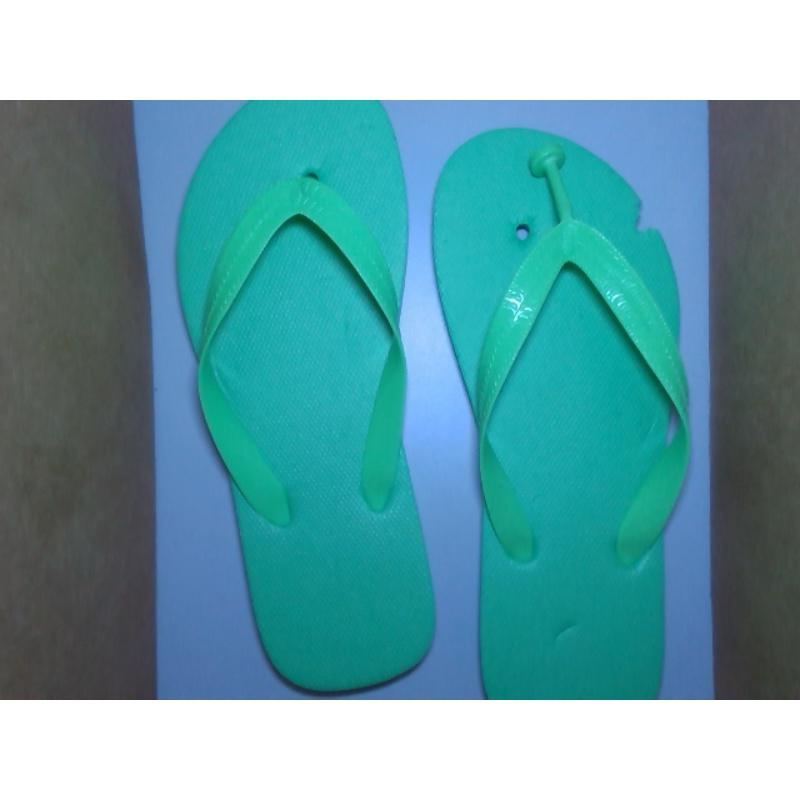chipped: (625, 185, 676, 243)
detached: (522, 132, 570, 193)
